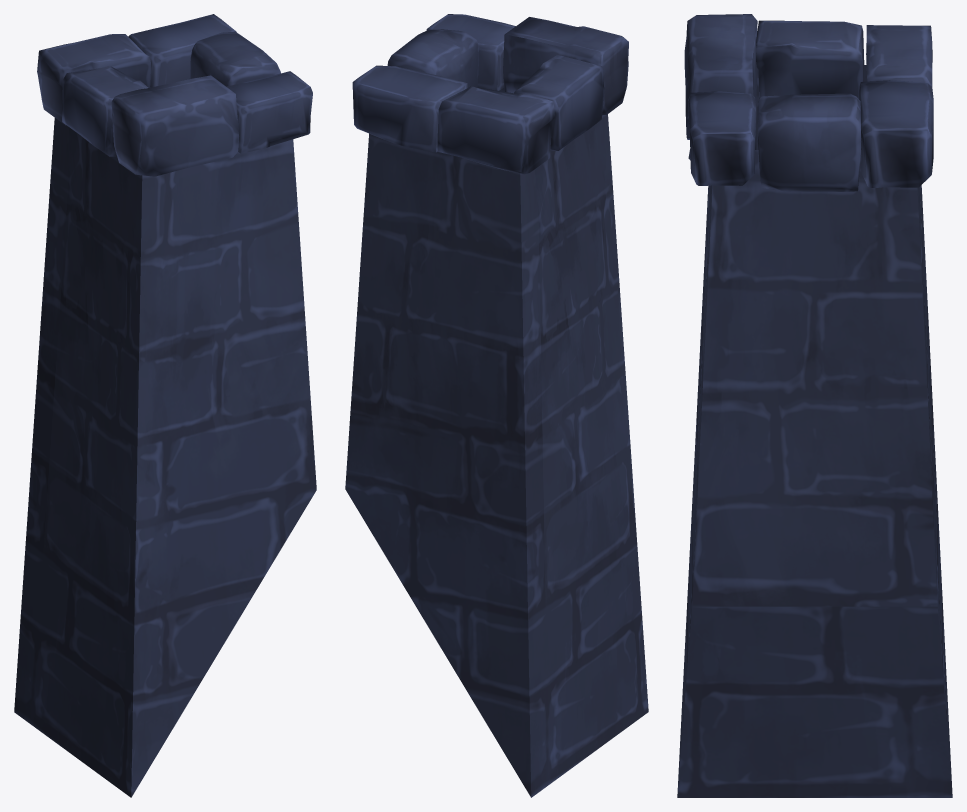
The picture shows the model from 3 angles, left to right: view 1: azimuth 30°, elevation 25°; view 2: azimuth 150°, elevation 25°; view 3: azimuth 270°, elevation 25°; orthographic projection. The views are drawn at different scales.
Visible parts, largest first — view 1: Prop_Chimney; view 2: Prop_Chimney; view 3: Prop_Chimney.
Part boxes in pixels (x1,y1,x2,y2): Prop_Chimney: [14, 14, 316, 797]; Prop_Chimney: [345, 14, 648, 797]; Prop_Chimney: [677, 14, 952, 797].
Bounding box in the file's own units: 0.9458 × 3.18 × 1.
2 materials, 2 textured.
